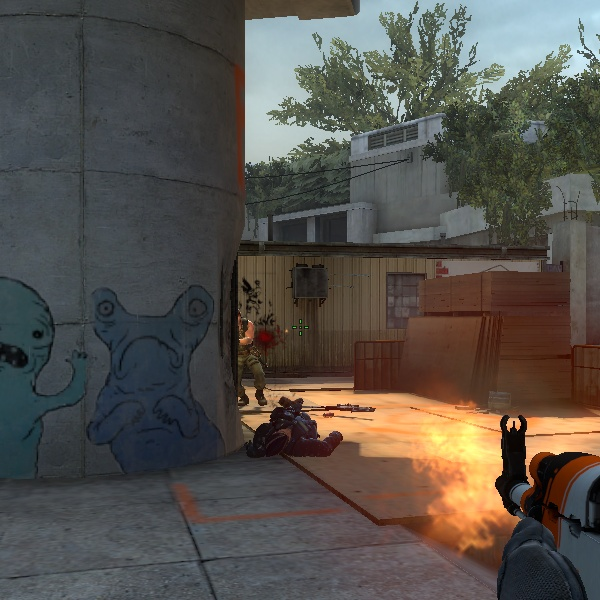t_body: (235, 311, 280, 408)
